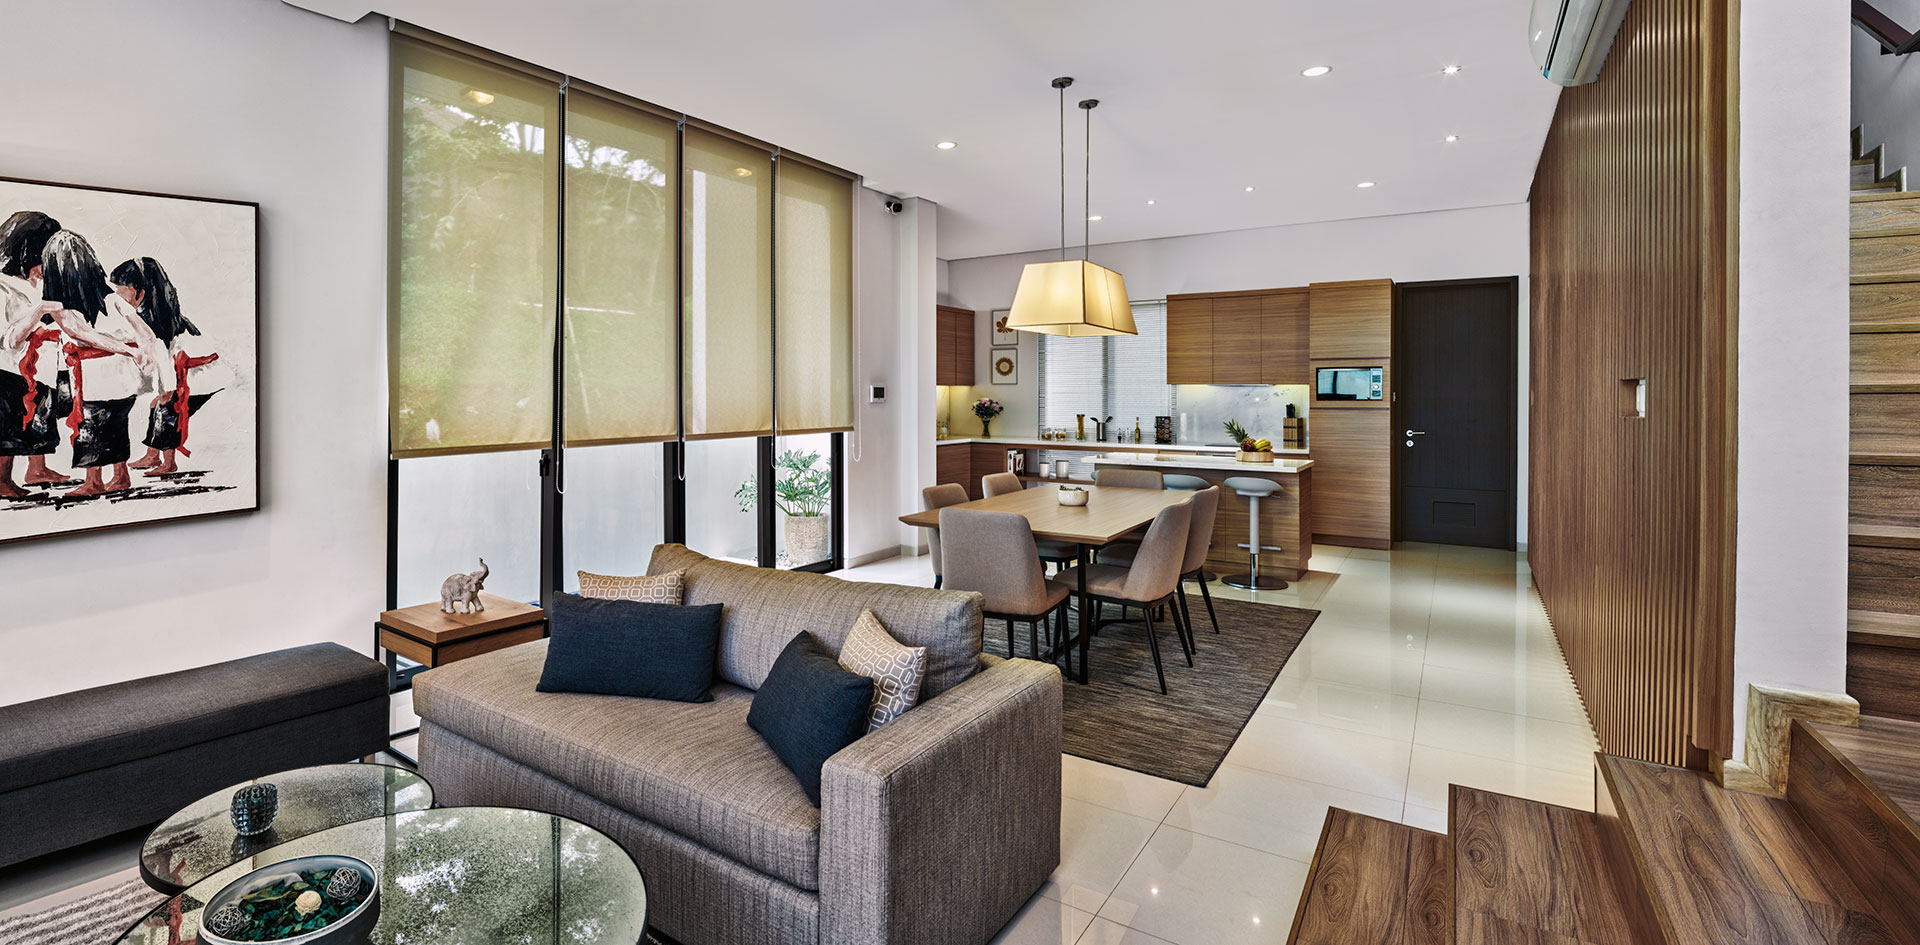bantal: (536, 595, 724, 706), (749, 619, 853, 794)
gelas: (224, 783, 280, 836)
kursi: (933, 509, 1074, 660), (1106, 499, 1207, 685)
lampu: (996, 261, 1146, 342)
lukisan: (1, 170, 272, 556)
meja: (911, 482, 1199, 589), (382, 589, 541, 668)
sova: (414, 550, 1074, 943)
